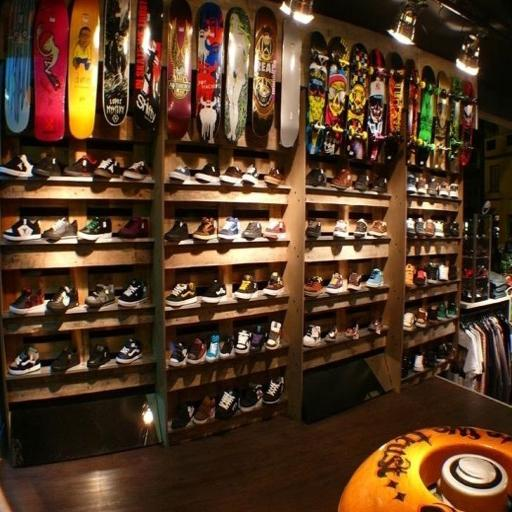shoe: (9, 288, 45, 315), (3, 217, 41, 242), (8, 346, 40, 375), (41, 217, 78, 242), (46, 286, 79, 313), (117, 279, 147, 308), (78, 216, 112, 241), (62, 154, 98, 177), (165, 282, 197, 307), (0, 154, 33, 178), (117, 215, 149, 239), (50, 347, 80, 372), (85, 284, 115, 309), (215, 389, 239, 420), (116, 337, 142, 364), (192, 396, 216, 425), (240, 384, 264, 412), (171, 403, 195, 431), (32, 155, 62, 177), (233, 274, 258, 300), (201, 279, 227, 304), (262, 376, 284, 405), (93, 157, 122, 179), (87, 344, 111, 369), (192, 217, 217, 241), (123, 160, 151, 181), (164, 219, 189, 242), (186, 338, 207, 365), (218, 217, 242, 240), (262, 271, 284, 296), (194, 163, 220, 184), (264, 321, 282, 350), (249, 325, 268, 352), (169, 342, 188, 367), (303, 275, 324, 297), (330, 169, 352, 190), (263, 220, 286, 240), (220, 165, 243, 185), (205, 333, 220, 363), (219, 334, 236, 359), (325, 272, 344, 294), (303, 324, 321, 347), (264, 166, 284, 186), (234, 329, 250, 354), (168, 165, 190, 183), (306, 168, 326, 187), (365, 268, 384, 288), (242, 221, 262, 240), (242, 164, 259, 186), (368, 220, 388, 238), (354, 173, 370, 193), (306, 219, 322, 239), (371, 176, 388, 194), (353, 218, 368, 238), (333, 219, 348, 239), (402, 311, 416, 332), (404, 263, 416, 287), (344, 322, 360, 340), (426, 262, 439, 284), (347, 272, 362, 291), (415, 307, 428, 328), (414, 265, 427, 286), (368, 317, 383, 335), (445, 221, 460, 238), (434, 343, 446, 364), (427, 304, 439, 325), (427, 176, 439, 197), (401, 354, 411, 379), (416, 175, 428, 195), (325, 325, 339, 342), (406, 173, 417, 194), (415, 217, 426, 238), (424, 349, 436, 368), (438, 263, 450, 281), (406, 217, 416, 238), (438, 179, 449, 198), (425, 218, 435, 238), (447, 300, 458, 318), (413, 354, 424, 372), (434, 221, 445, 238), (448, 264, 459, 281), (437, 303, 448, 320), (449, 182, 459, 199)
